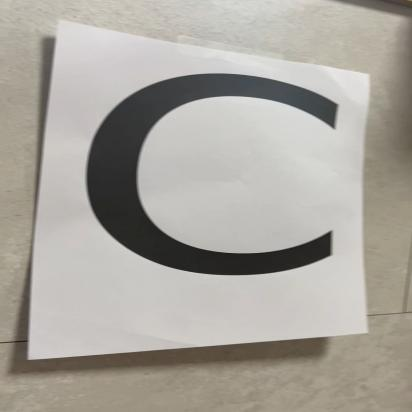seat: (28, 20, 401, 364)
